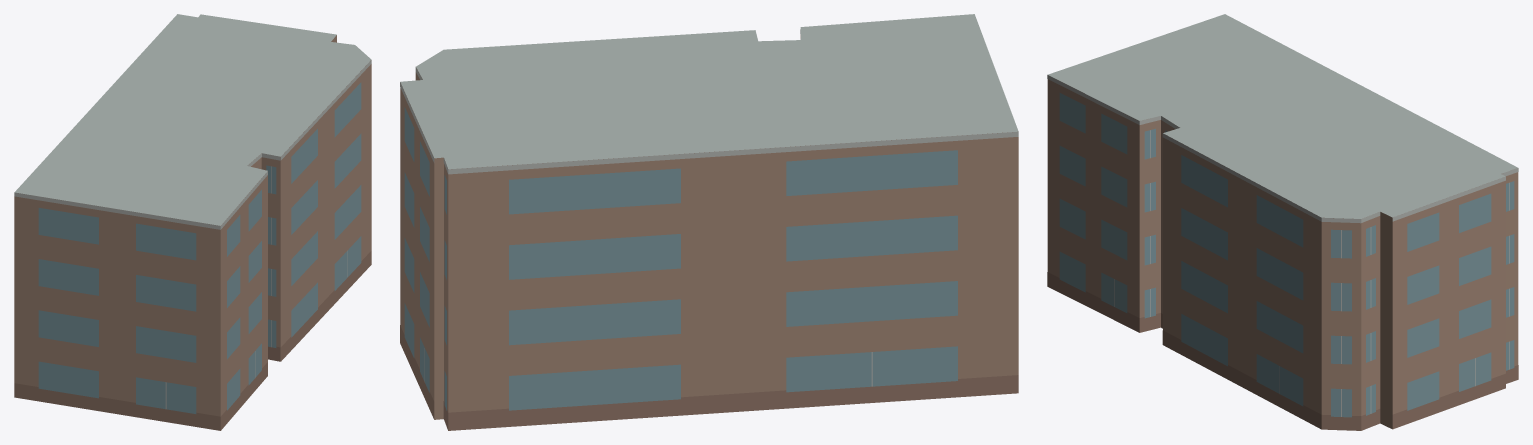
Rendered from survey-upis-32681884.glb.
3 views of the same model, side by side, from view 1: azimuth 30°, elevation 25°; view 2: azimuth 150°, elevation 25°; view 3: azimuth 270°, elevation 25° (orthographic). The views are drawn at different scales.
Visible parts, largest first — view 1: survey-upis-32681884.tmp; view 2: survey-upis-32681884.tmp; view 3: survey-upis-32681884.tmp.
Part boxes in pixels (x1,y1,x2,y2): survey-upis-32681884.tmp: (14,14,371,430); survey-upis-32681884.tmp: (400,14,1018,430); survey-upis-32681884.tmp: (1047,14,1518,430).
Bounding box in the file's own units: 25.96 × 12.5 × 25.19.
